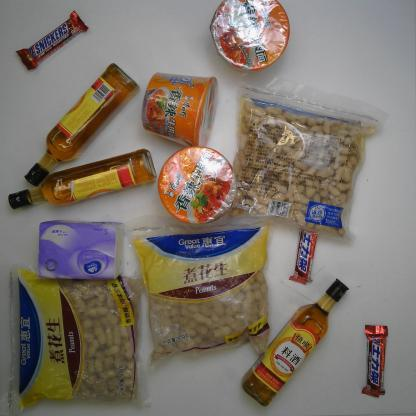Chocolate: (16, 9, 88, 71), (288, 214, 322, 284), (360, 324, 389, 398)
Dried Food: (214, 75, 391, 246), (135, 221, 270, 366), (11, 269, 143, 409)
Instant Noodles: (156, 145, 238, 226), (141, 72, 220, 148), (208, 0, 291, 72)
Seasoner: (24, 62, 139, 188), (242, 278, 350, 408), (7, 142, 162, 211)
Tissue: (35, 219, 126, 281)
